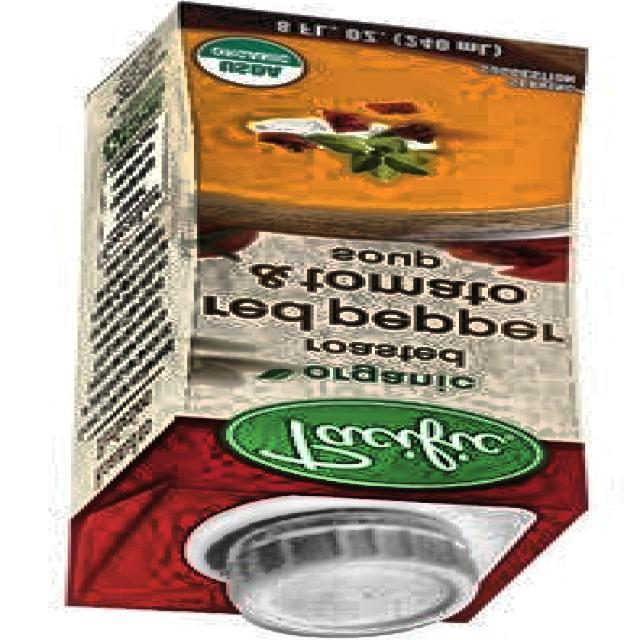cardboard: (64, 4, 592, 634)
